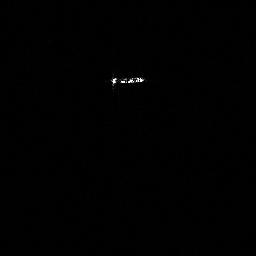ship: (112, 75, 144, 84)
